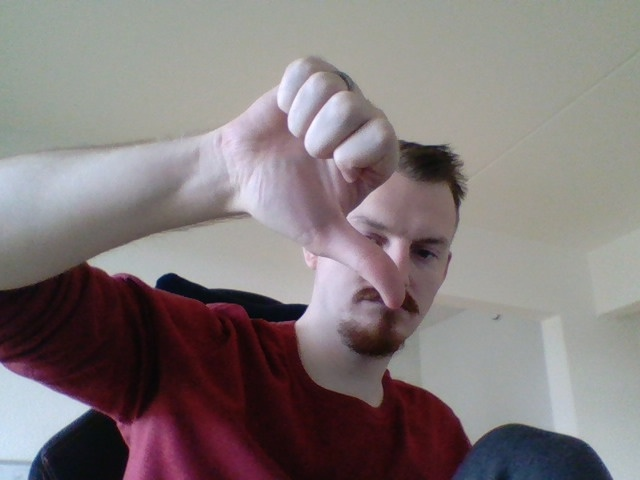ThumpsDown: (235, 51, 406, 314)
